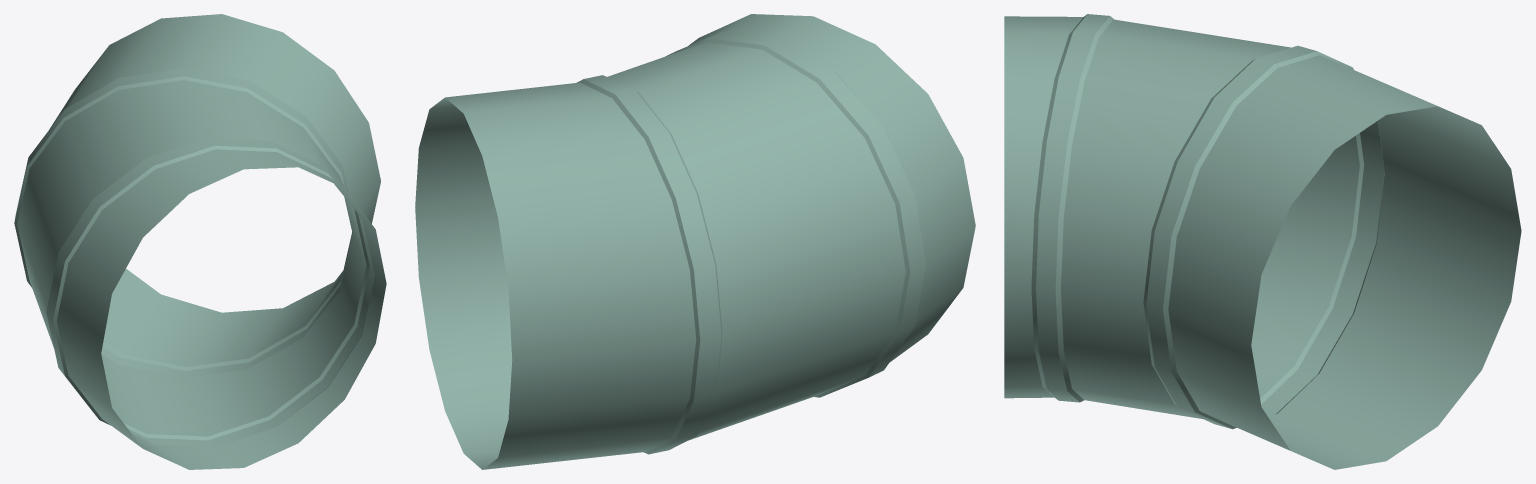
Rendered from PipeLarge_Stepped_BentDeg45_02.fbx.
The picture shows the model from 3 angles, left to right: view 1: azimuth 30°, elevation 25°; view 2: azimuth 150°, elevation 25°; view 3: azimuth 270°, elevation 25°; orthographic projection. The views are drawn at different scales.
Visible parts, largest first — view 1: PipeLarge_Stepped_BentDeg45_02.001; view 2: PipeLarge_Stepped_BentDeg45_02.001; view 3: PipeLarge_Stepped_BentDeg45_02.001.
Boxes of the visible parts, x1,y1,x2,y2 form: PipeLarge_Stepped_BentDeg45_02.001: (14,14,386,469); PipeLarge_Stepped_BentDeg45_02.001: (415,14,975,469); PipeLarge_Stepped_BentDeg45_02.001: (1004,14,1521,469).
Size of the model in its own units: 0.2723 by 0.2029 by 0.2705.
